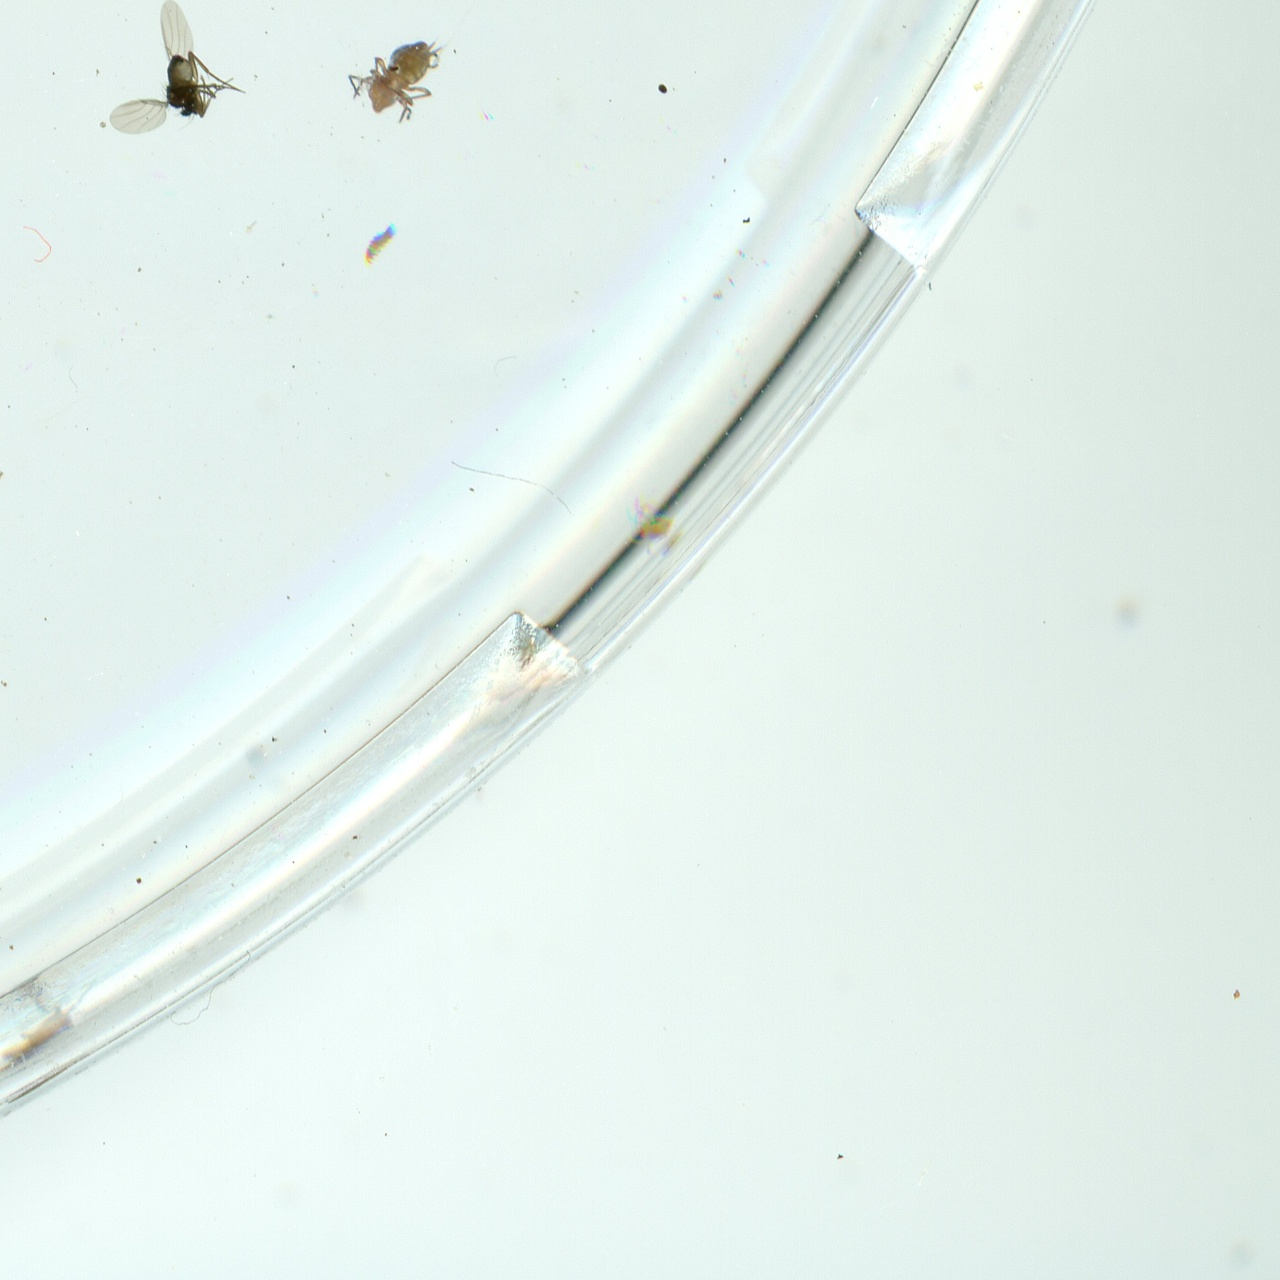arthropod: (107, 0, 250, 138), (346, 32, 451, 125), (353, 212, 404, 277)
